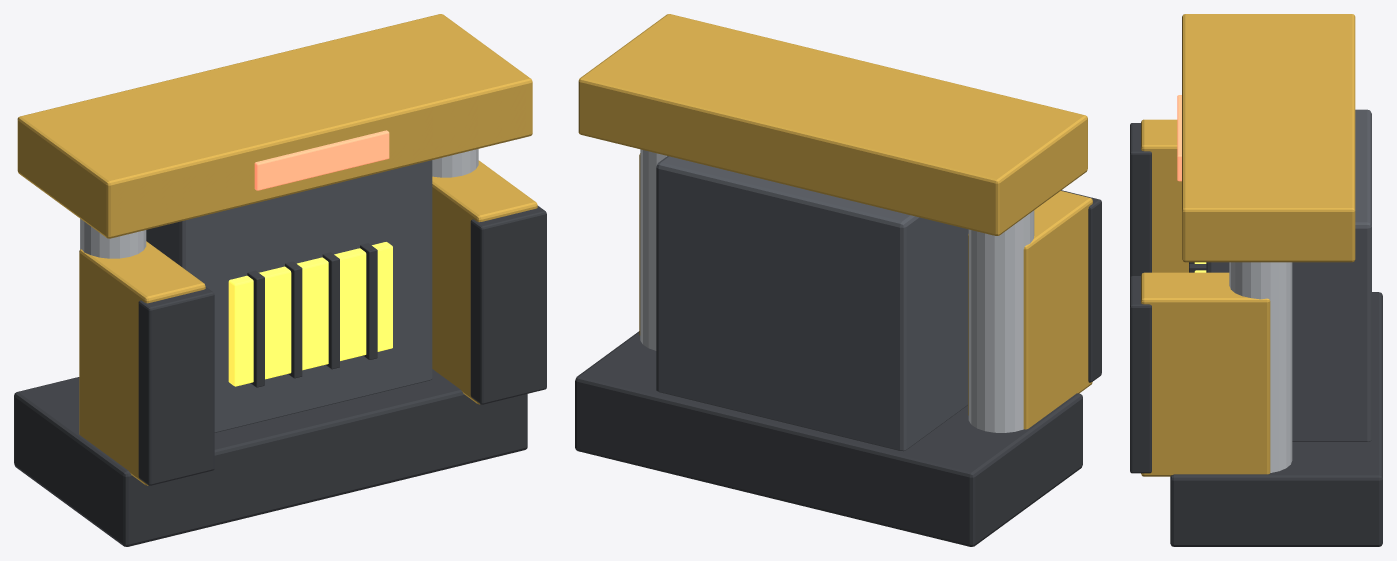
Rendered from enemy_boss_compattatore.glb.
3 views of the same model, side by side, from view 1: azimuth 30°, elevation 25°; view 2: azimuth 150°, elevation 25°; view 3: azimuth 270°, elevation 25° (orthographic). The views are drawn at different scales.
Visible parts, largest first — view 1: TopBridge, BossBase, BossCoreBody, CrusherJaw_-1.15, JawPlate_1.15, JawPlate_-1.15, FurnaceMouth, CrusherJaw_1.15, BossOpticArray, HydraulicColumn_-1.15, FurnaceGrate_1, FurnaceGrate_2 (+3 smaller); view 2: BossCoreBody, TopBridge, BossBase, CrusherJaw_-1.15, HydraulicColumn_-1.15, HydraulicColumn_1.15, JawPlate_-1.15; view 3: TopBridge, CrusherJaw_1.15, BossBase, BossCoreBody, HydraulicColumn_1.15, CrusherJaw_-1.15, JawPlate_1.15, JawPlate_-1.15, BossOpticArray.
Boxes of the visible parts, left/top/right/bottom form: TopBridge: left=17, top=14, right=532, bottom=238; BossBase: left=14, top=369, right=527, bottom=546; BossCoreBody: left=146, top=160, right=432, bottom=432; CrusherJaw_-1.15: left=79, top=241, right=205, bottom=485; JawPlate_1.15: left=470, top=205, right=546, bottom=404; JawPlate_-1.15: left=138, top=287, right=214, bottom=485; FurnaceMouth: left=228, top=242, right=392, bottom=386; CrusherJaw_1.15: left=432, top=160, right=537, bottom=404; BossOpticArray: left=254, top=130, right=389, bottom=190; HydraulicColumn_-1.15: left=80, top=218, right=146, bottom=258; FurnaceGrate_1: left=285, top=261, right=302, bottom=378; FurnaceGrate_2: left=322, top=252, right=339, bottom=369; BossCoreBody: left=656, top=156, right=968, bottom=451; TopBridge: left=578, top=14, right=1087, bottom=235; BossBase: left=575, top=331, right=1082, bottom=546; CrusherJaw_-1.15: left=968, top=191, right=1092, bottom=429; HydraulicColumn_-1.15: left=968, top=210, right=1034, bottom=432; HydraulicColumn_1.15: left=640, top=149, right=666, bottom=350; JawPlate_-1.15: left=1061, top=190, right=1101, bottom=382; TopBridge: left=1182, top=14, right=1355, bottom=262; CrusherJaw_1.15: left=1141, top=272, right=1270, bottom=476; BossBase: left=1170, top=292, right=1382, bottom=546; BossCoreBody: left=1206, top=109, right=1371, bottom=441; HydraulicColumn_1.15: left=1229, top=262, right=1292, bottom=472; CrusherJaw_-1.15: left=1141, top=119, right=1188, bottom=272; JawPlate_1.15: left=1130, top=276, right=1151, bottom=473; JawPlate_-1.15: left=1130, top=123, right=1151, bottom=277; BossOpticArray: left=1177, top=95, right=1181, bottom=181.
Size of the model in its own units: 2.95 by 2.41 by 1.61.
